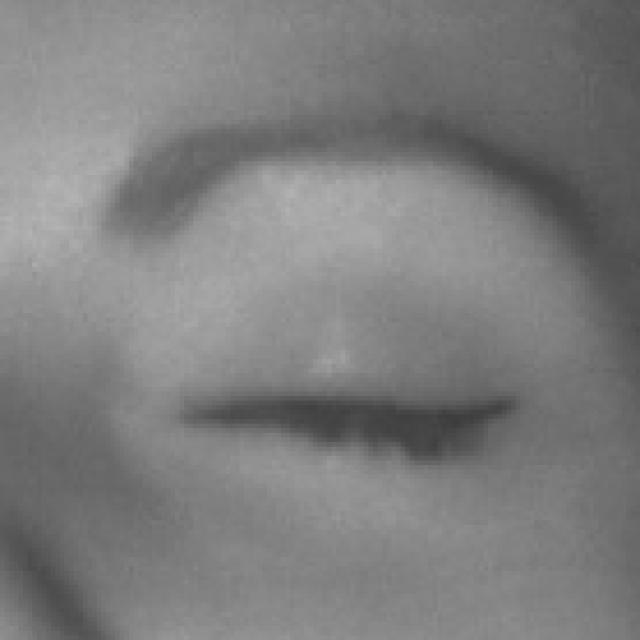close: (46, 51, 640, 622)
